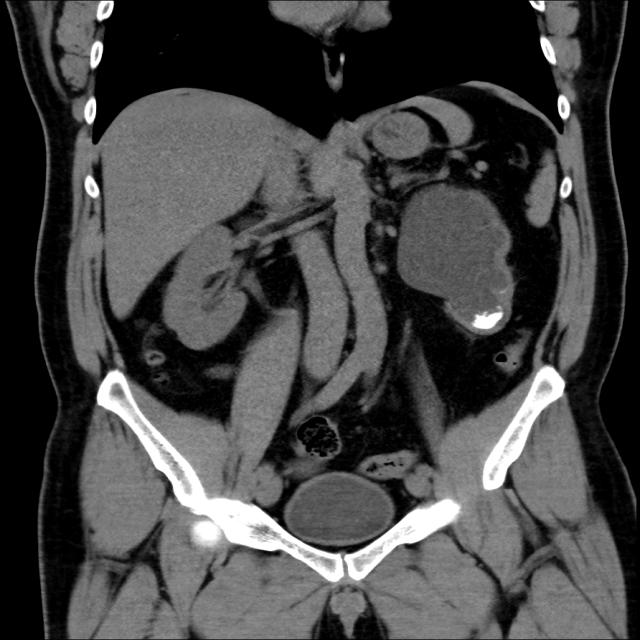kidneystone: (471, 311, 502, 329)
